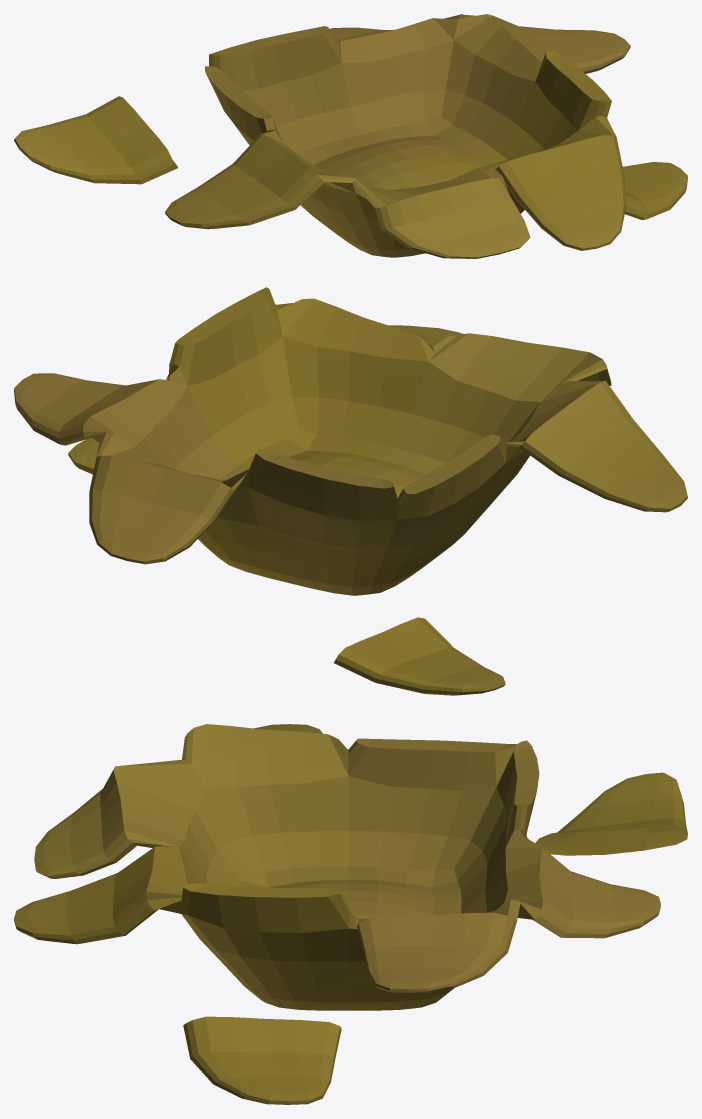
The model's file is SM_Crop_Lettuce_Stage_Dead.fbx.
3 renders of one model, top to bottom at view 1: azimuth 30°, elevation 25°; view 2: azimuth 150°, elevation 25°; view 3: azimuth 270°, elevation 25°, orthographic. The views are drawn at different scales.
Parts seen in each view (by area): view 1: SM_Crop_Lettuce_ST4; view 2: SM_Crop_Lettuce_ST4; view 3: SM_Crop_Lettuce_ST4.
Part boxes in pixels (x1,y1,x2,y2): SM_Crop_Lettuce_ST4: [14, 14, 687, 258]; SM_Crop_Lettuce_ST4: [14, 287, 687, 695]; SM_Crop_Lettuce_ST4: [14, 724, 687, 1104].
Bounding box in the file's own units: 86.83 × 23.41 × 85.38.
1 material, 1 textured.
